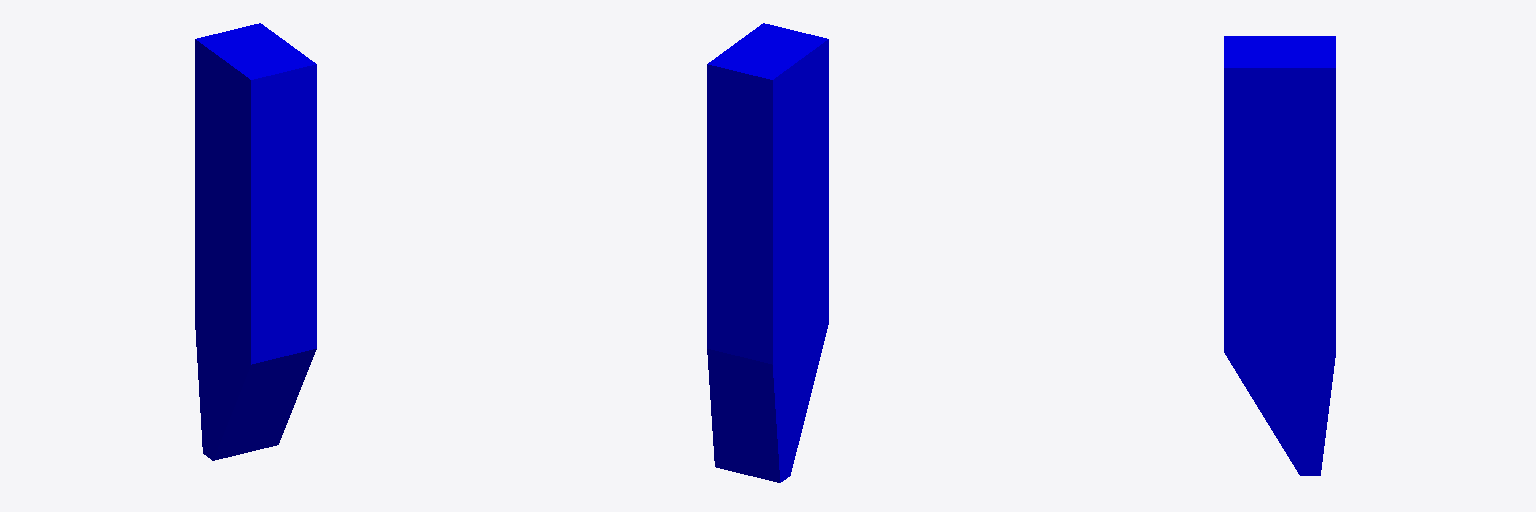
The model's file is Action_vi.obj.
3 renders of one model, left to right at view 1: azimuth 30°, elevation 25°; view 2: azimuth 150°, elevation 25°; view 3: azimuth 270°, elevation 25°, orthographic.
Visible parts, largest first — view 1: coll_mesh; view 2: coll_mesh; view 3: coll_mesh.
Part boxes in pixels (x1,y1,x2,y2): coll_mesh: (195, 23, 316, 460); coll_mesh: (707, 23, 828, 482); coll_mesh: (1224, 36, 1335, 475).
Size of the model in its own units: 18.8 by 112 by 27.98.